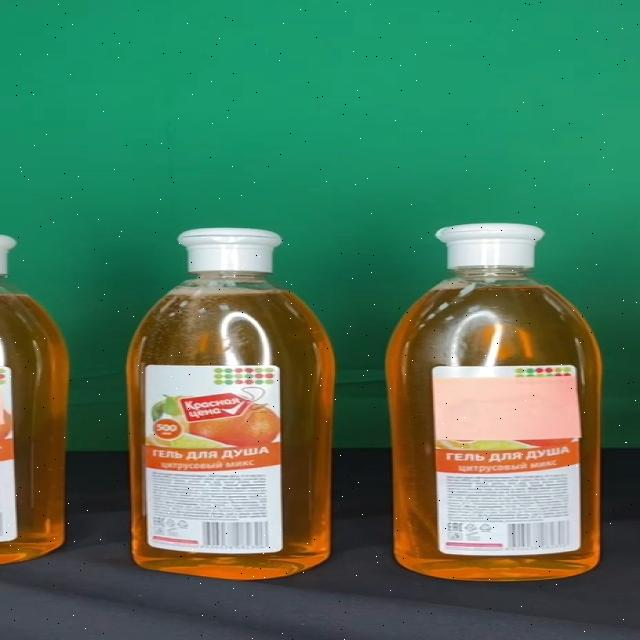Bottle: (385, 224, 603, 582), (127, 227, 336, 581)
Cap: (436, 224, 545, 268), (175, 228, 282, 272)
